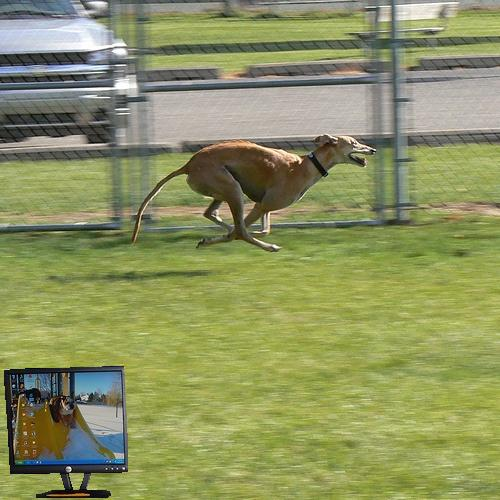tampered: (5, 367, 128, 498)
